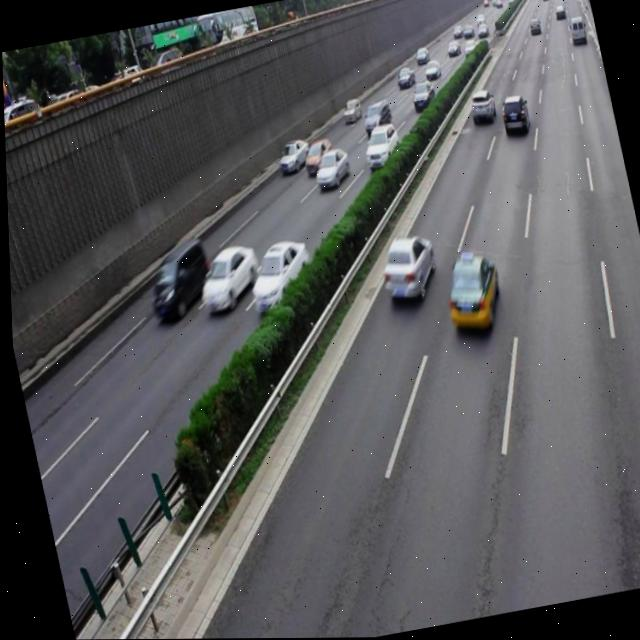car: (433, 251, 504, 339), (238, 235, 316, 315), (188, 240, 262, 317), (371, 230, 437, 305), (357, 123, 403, 172), (308, 147, 352, 192), (273, 136, 311, 175), (496, 94, 530, 137), (299, 138, 334, 176)
truck: (138, 237, 214, 325)
